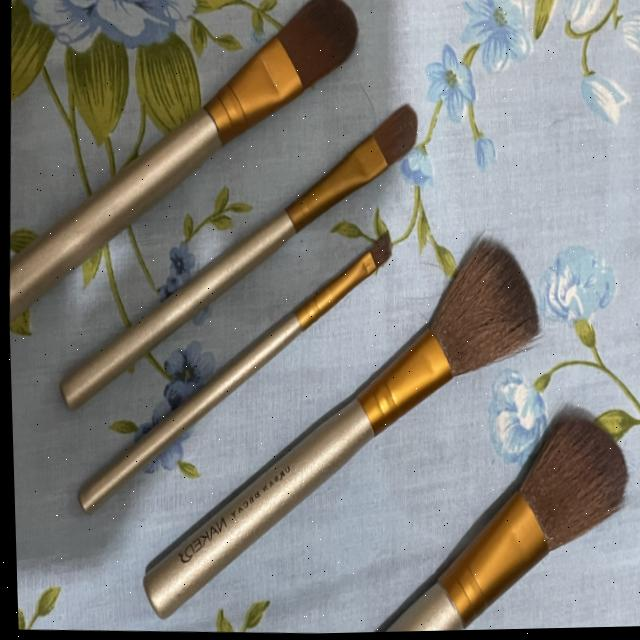brush: (487, 389, 640, 632), (415, 212, 553, 418), (271, 0, 376, 111), (335, 213, 412, 322), (363, 80, 440, 177)
